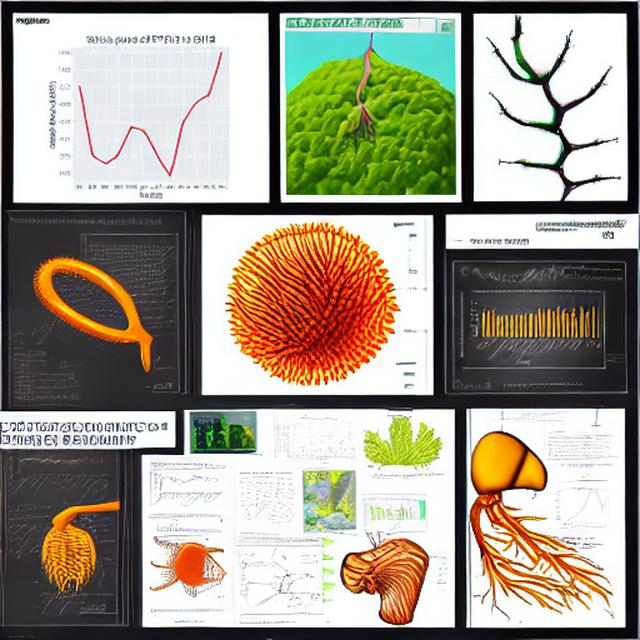Graph: (30, 25, 266, 202), (459, 288, 587, 367), (3, 449, 87, 495), (279, 416, 358, 463), (148, 468, 224, 510), (551, 484, 616, 529), (366, 500, 417, 529)
